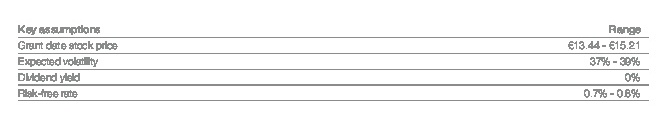table: (0, 0, 659, 116)
